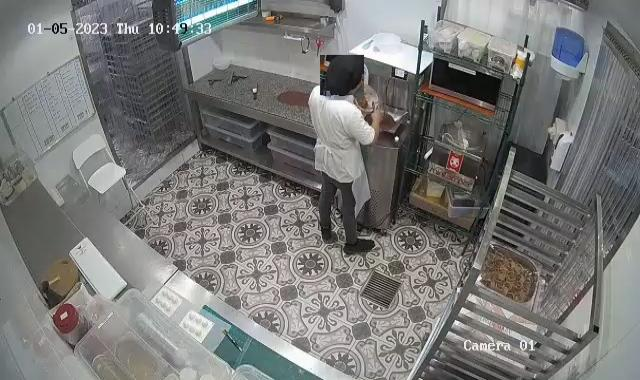no_hairnet: (323, 56, 363, 99)
